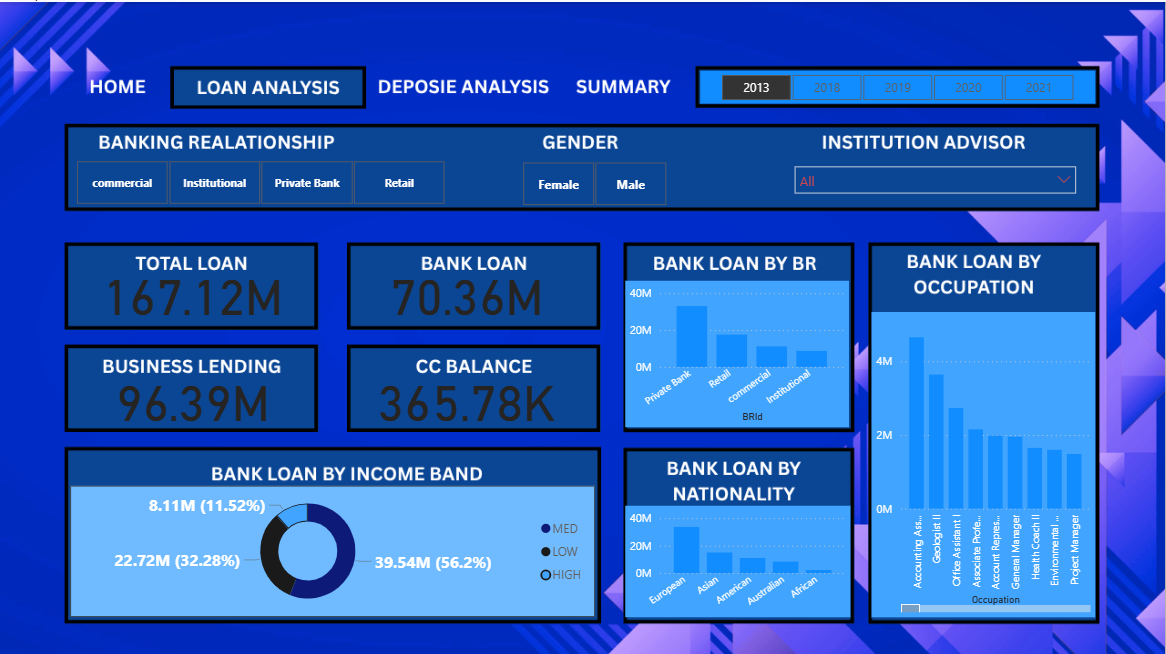

The dashboard page shown, as its layout file describes it:
{"tool":"powerbi","page":{"name":"LOAN ANALYSIS","canvas":[1280,720],"ordinal":1},"visuals":[{"type":"slicer","fields":{"Values":["Query1.Year of Joining"]},"box":[769.8,75.5,433.6,35.7],"z":0},{"type":"actionButton","box":[78.2,71.4,100.2,39.8],"z":1000},{"type":"actionButton","box":[413,71.4,194.9,39.8],"z":2000},{"type":"actionButton","box":[628.5,71.4,116.6,39.8],"z":3000},{"type":"card","fields":{"Values":["Query1.Total Loan"]},"box":[97.4,285.4,230.5,64.5],"z":4000},{"type":"card","fields":{"Values":["Sum(Query1.Bank Loans)"]},"box":[397.9,285.4,230.5,64.5],"z":5000},{"type":"card","fields":{"Values":["Sum(Query1.Business Lending)"]},"box":[97.4,402.1,230.5,64.5],"z":6000},{"type":"card","fields":{"Values":["Sum(Query1.Credit Card Balance)"]},"box":[397.9,402.1,230.5,64.5],"z":7000},{"type":"donutChart","fields":{"Category":["Query1.Income Band"],"Y":["Sum(Query1.Bank Loans)"]},"box":[78.2,531,576.3,144.1],"z":8000},{"type":"clusteredColumnChart","fields":{"Category":["Query1.BRId"],"Y":["Sum(Query1.Bank Loans)"]},"box":[687.5,306,245.6,160.5],"z":9000},{"type":"clusteredColumnChart","fields":{"Category":["Query1.Nationality"],"Y":["Sum(Query1.Bank Loans)"]},"box":[687.5,553,247,122.1],"z":10000},{"type":"clusteredColumnChart","fields":{"Category":["Query1.Occupation"],"Y":["Sum(Query1.Bank Loans)"]},"box":[957.8,340.3,245.6,334.8],"z":11000},{"type":"slicer","fields":{"Values":["Query1.BRId"]},"box":[61.7,170.2,451.5,56.3],"z":12000},{"type":"slicer","fields":{"Values":["Query1.GenderId"]},"box":[551.6,171.5,204.5,56.3],"z":13000},{"type":"slicer","fields":{"Values":["Query1.IAId"]},"box":[863.1,170.2,329.3,45.3],"z":14000}]}

Visuals, with their boxes in screenshot pixels (x1, y1, x2, y2), scaled from the page's 1280x720 canvas onto the 1166x654 screenshot:
slicer - Query1.Year of Joining: 701 69 1096 101
actionButton: 71 65 163 101
actionButton: 376 65 554 101
actionButton: 573 65 679 101
card - Query1.Total Loan: 89 259 299 318
card - Sum(Query1.Bank Loans): 362 259 572 318
card - Sum(Query1.Business Lending): 89 365 299 424
card - Sum(Query1.Credit Card Balance): 362 365 572 424
donutChart - Query1.Income Band x Sum(Query1.Bank Loans): 71 482 596 613
clusteredColumnChart - Query1.BRId x Sum(Query1.Bank Loans): 626 278 850 424
clusteredColumnChart - Query1.Nationality x Sum(Query1.Bank Loans): 626 502 851 613
clusteredColumnChart - Query1.Occupation x Sum(Query1.Bank Loans): 872 309 1096 613
slicer - Query1.BRId: 56 155 467 206
slicer - Query1.GenderId: 502 156 689 207
slicer - Query1.IAId: 786 155 1086 196
